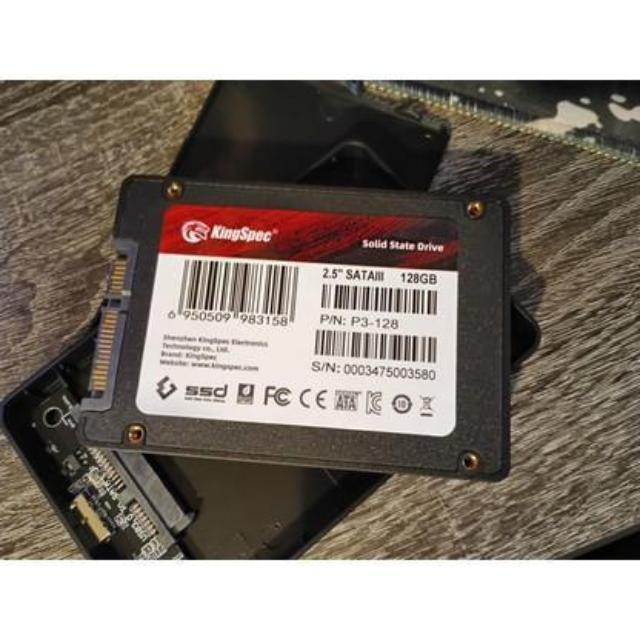DISK: (79, 168, 521, 486)
